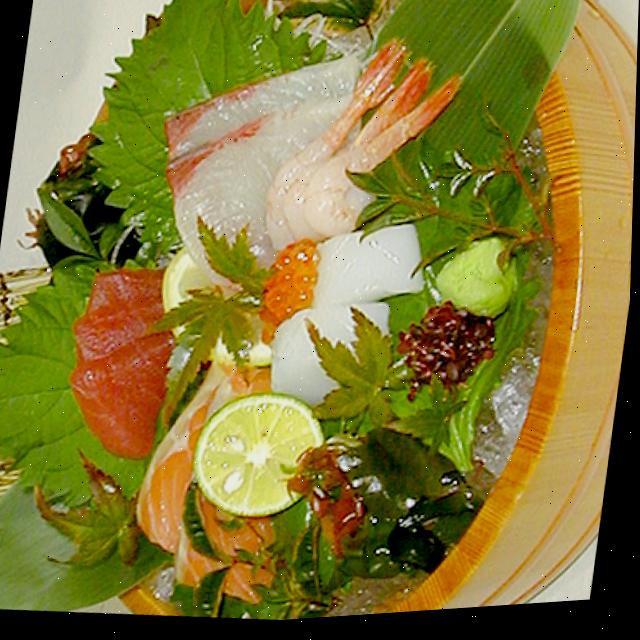刺身生食: (0, 0, 597, 640)
